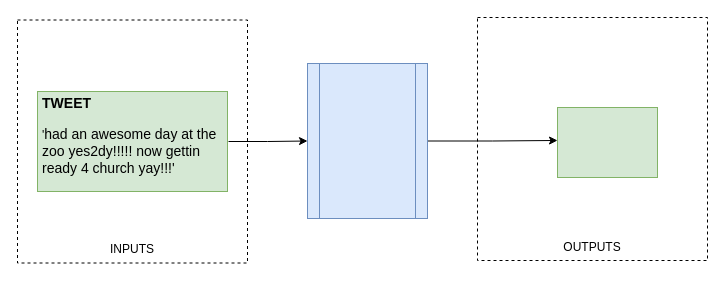
Image size: 725x281. Some labels were removed from this diagram. Each missing label, with the centre of its shape:
"MODEL" belongs at point 367,140.
"SENTIMENT positive" belongs at point 607,142.
